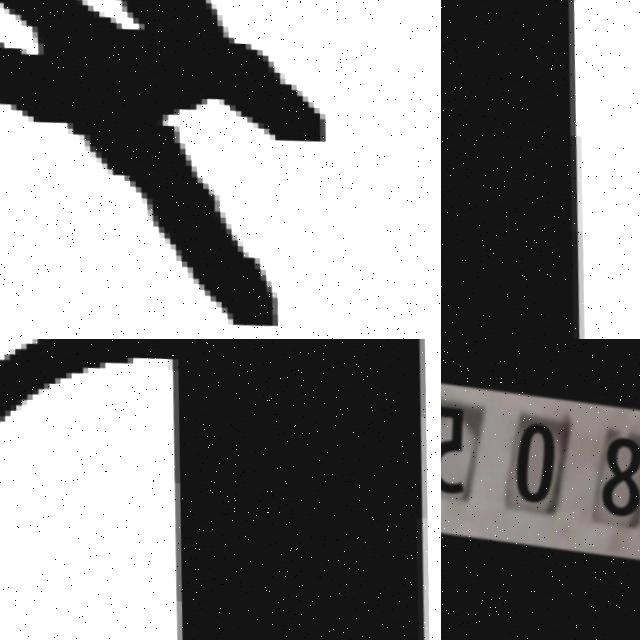0: (508, 405, 576, 503)
5: (441, 388, 492, 496)
8: (595, 417, 640, 516)
D: (0, 339, 441, 640)
L: (441, 0, 636, 339)
